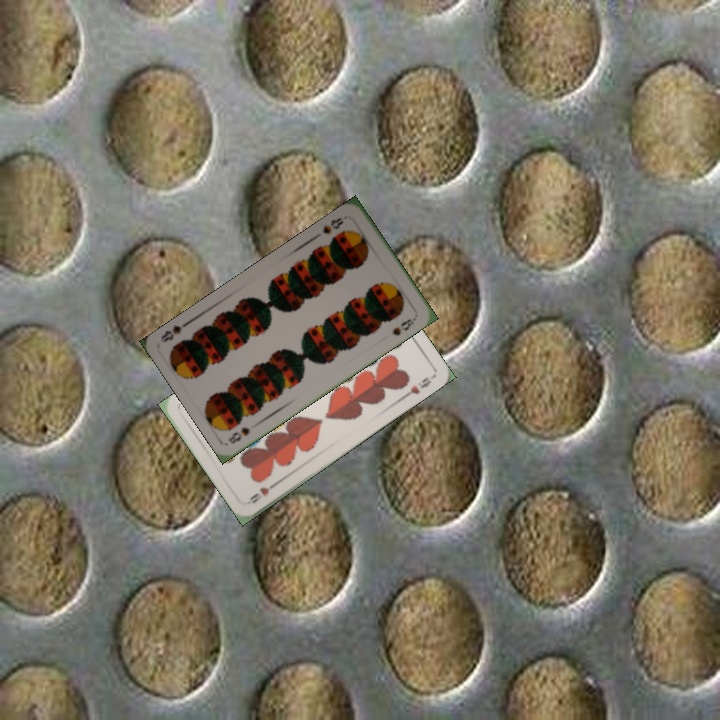H9: (245, 478, 280, 506)
S8: (319, 213, 346, 237), (224, 423, 252, 446)
